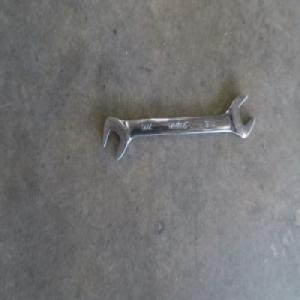Wrench: (102, 93, 253, 159)
